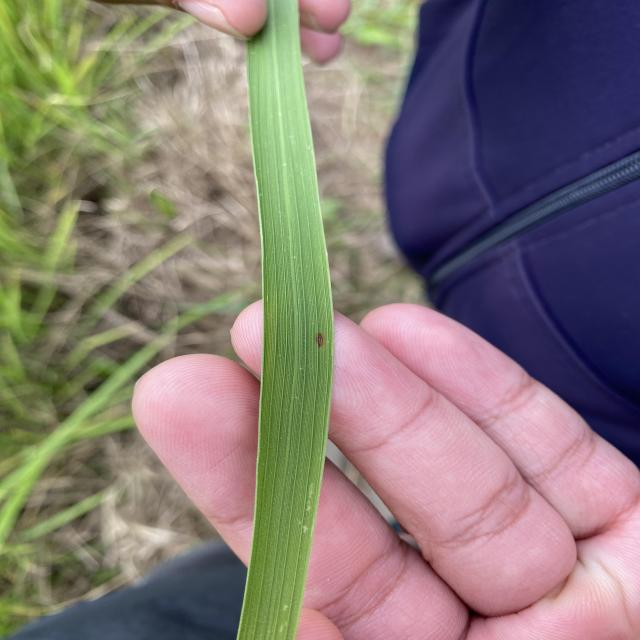Dom nau: (316, 331, 326, 351)
